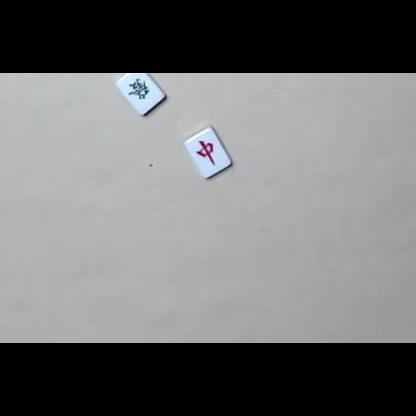6z: (128, 78, 150, 100)
7z: (196, 140, 217, 166)
